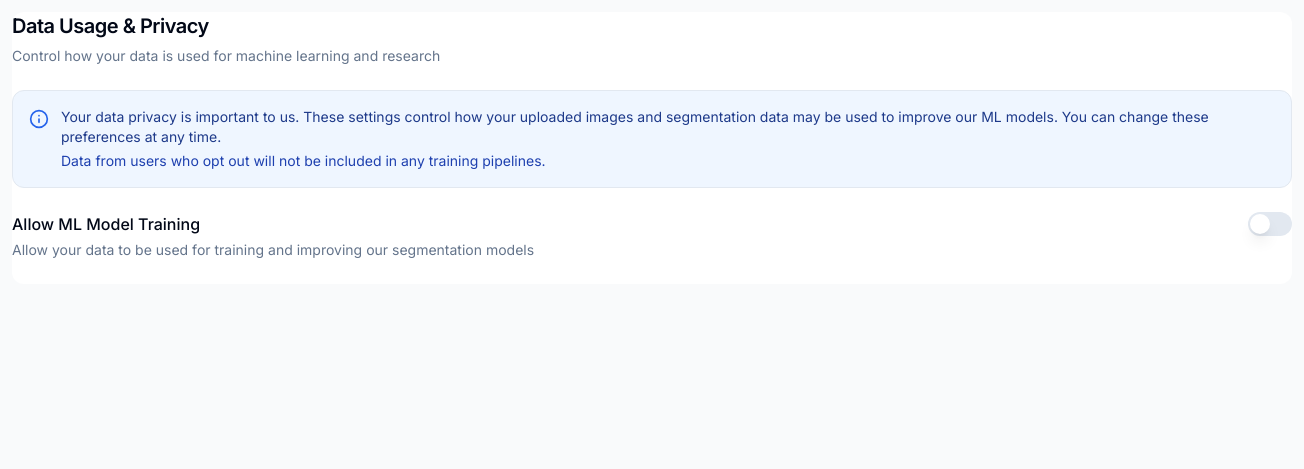
Test: ConsentSection › toggle interactions › enabling Algorithm sub-option forces ML training on
# First enable ML training to get the sub-options in DOM
Click the switch named "allow ml model training". click: (1270, 224)
box: x1=1248 y1=212 x2=1292 y2=236
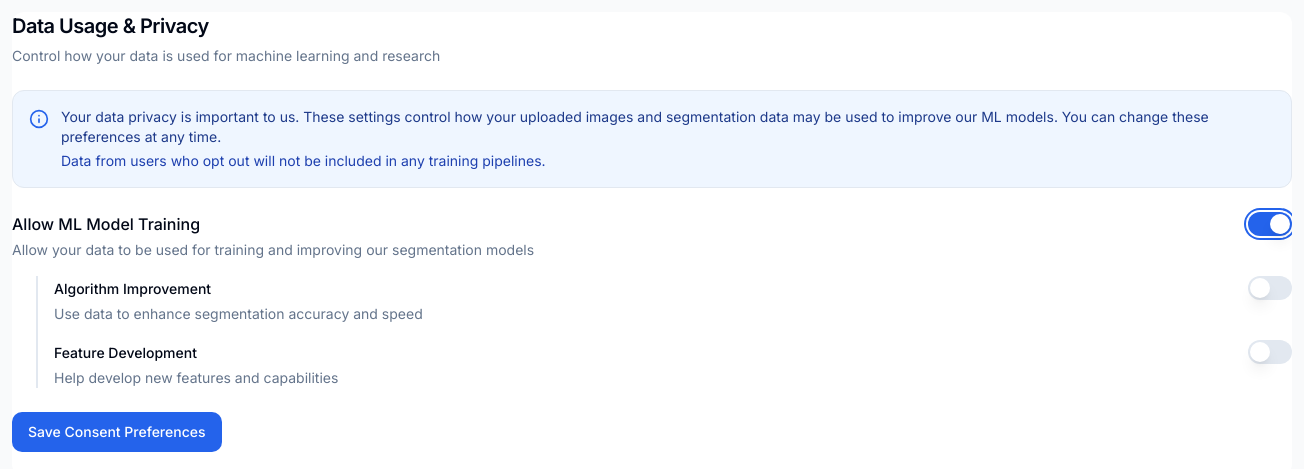
# Now disable ML training again
Click the switch named "allow ml model training" in the row of "Allow ML Model Training". click: (1270, 224)
box: x1=1248 y1=212 x2=1292 y2=236
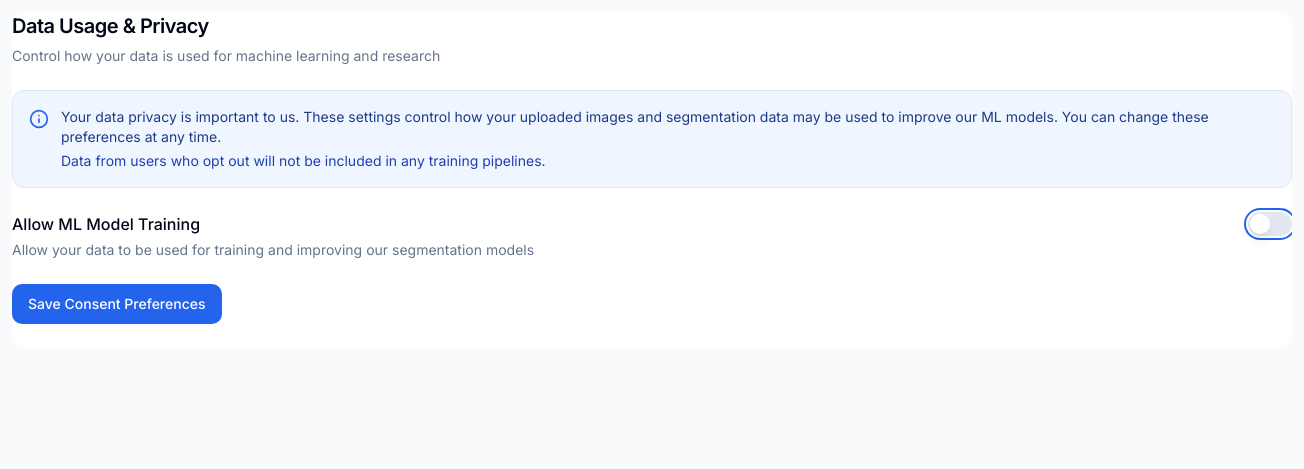
# Re-enable ML training to show sub-options
Click the switch named "allow ml model training". click: (1270, 224)
box: x1=1248 y1=212 x2=1292 y2=236
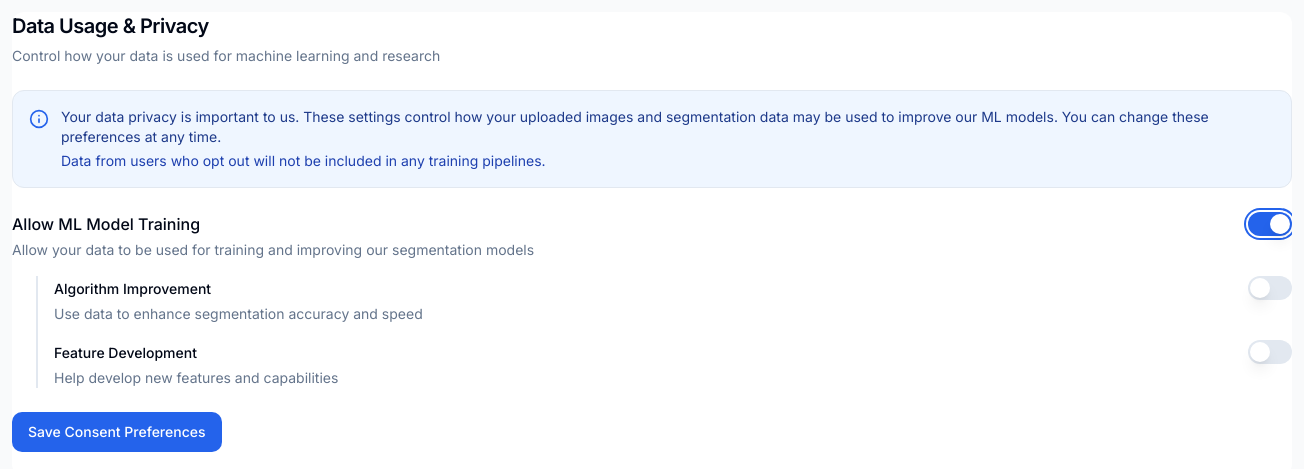
# Click algo improvement (sub-option) — ML training is already on
Click the switch named "algorithm improvement" in the row of "Algorithm Improvement". click: (1270, 288)
box: x1=1248 y1=276 x2=1292 y2=300
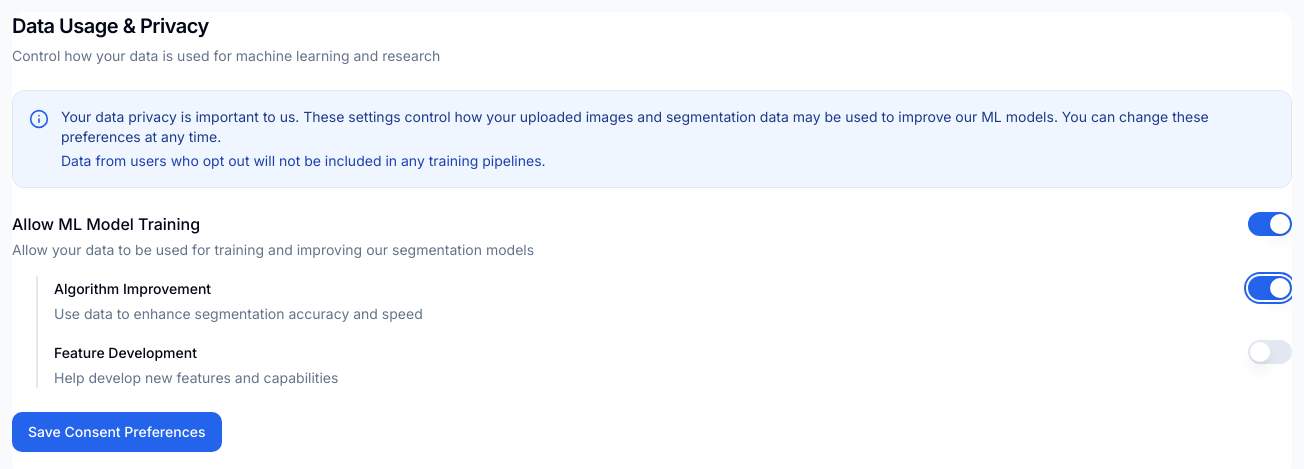
Check: the switch named "allow ml model training" in the row of "Allow ML Model Training" is checked, box x1=1248 y1=212 x2=1292 y2=236
